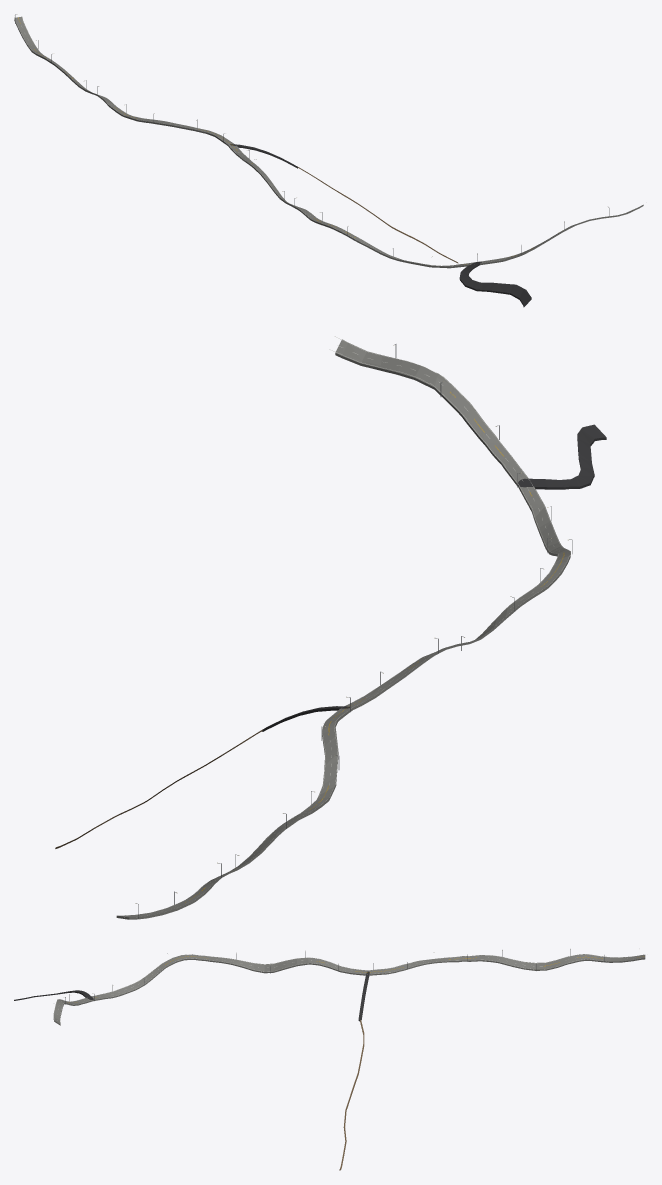
3 views of the same model, one above another, from view 1: azimuth 30°, elevation 25°; view 2: azimuth 150°, elevation 25°; view 3: azimuth 270°, elevation 25° (orthographic). The views are drawn at different scales.
Bounding box in the file's own units: 217 × 157 × 586.
